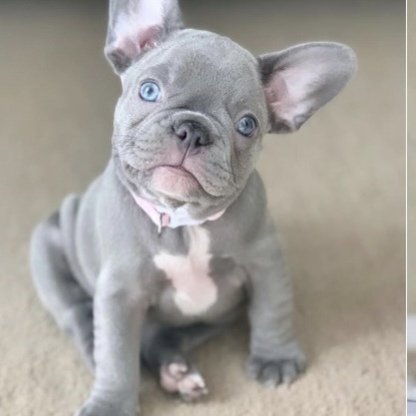bulldog: (100, 10, 357, 233)
